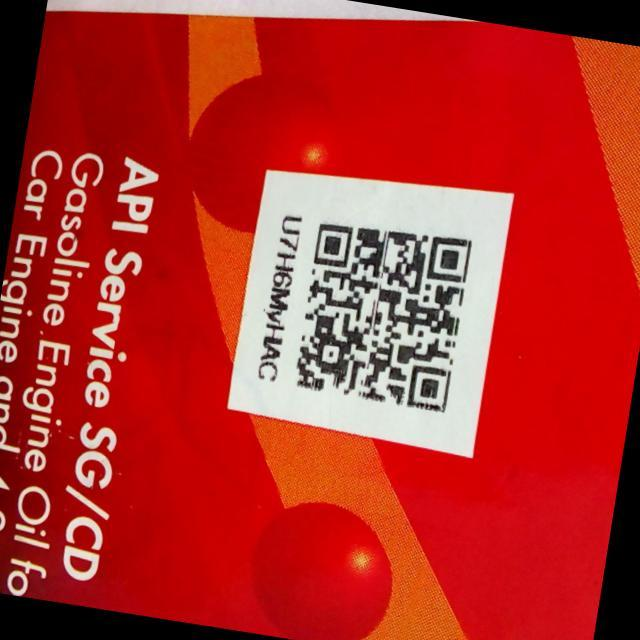QRCode: (279, 210, 481, 421)
